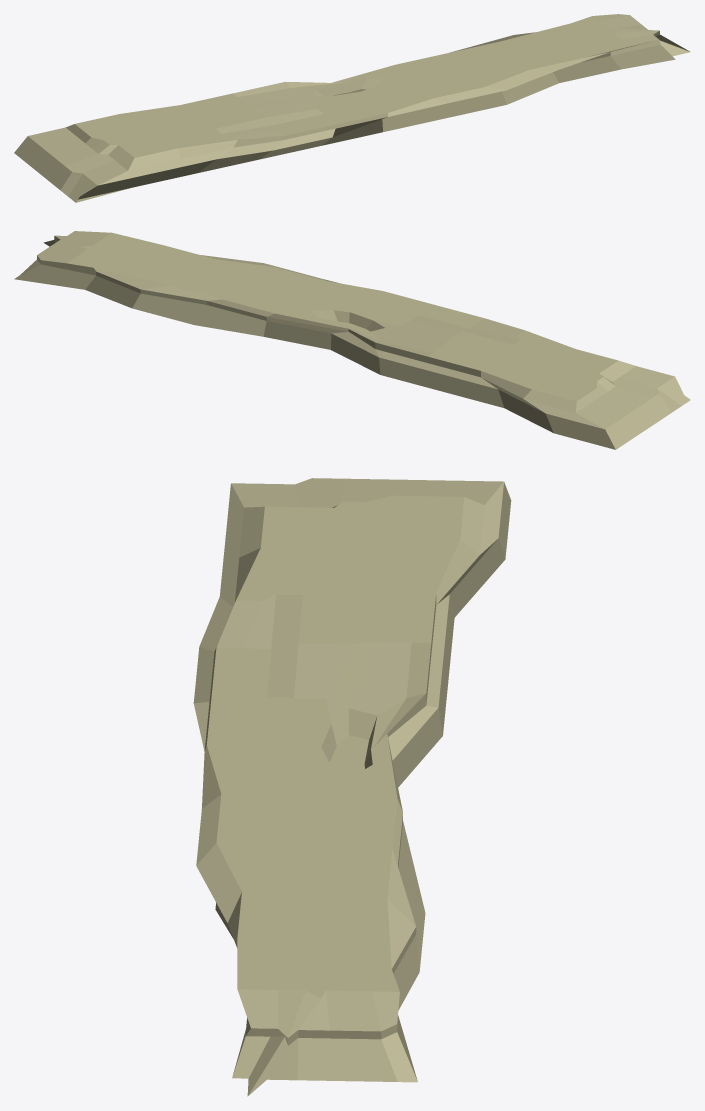
File: island23.fbx
3 renders of one model, top to bottom at view 1: azimuth 30°, elevation 25°; view 2: azimuth 150°, elevation 25°; view 3: azimuth 270°, elevation 25°, orthographic. The views are drawn at different scales.
Parts seen in each view (by area): view 1: pCube1; view 2: pCube1; view 3: pCube1.
Part boxes in pixels (x1,y1,x2,y2): pCube1: (14, 14, 690, 202); pCube1: (14, 231, 690, 449); pCube1: (193, 478, 511, 1096).
Bounding box in the file's own units: 322 × 12.83 × 71.95.
